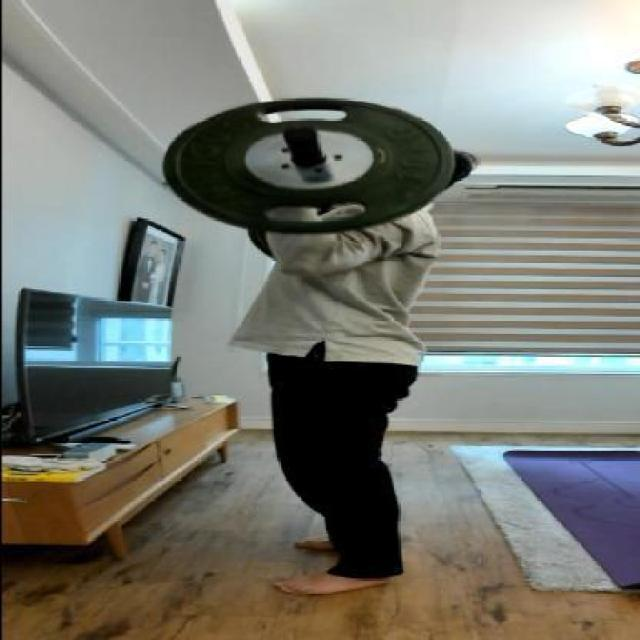barbell: (155, 91, 461, 236)
